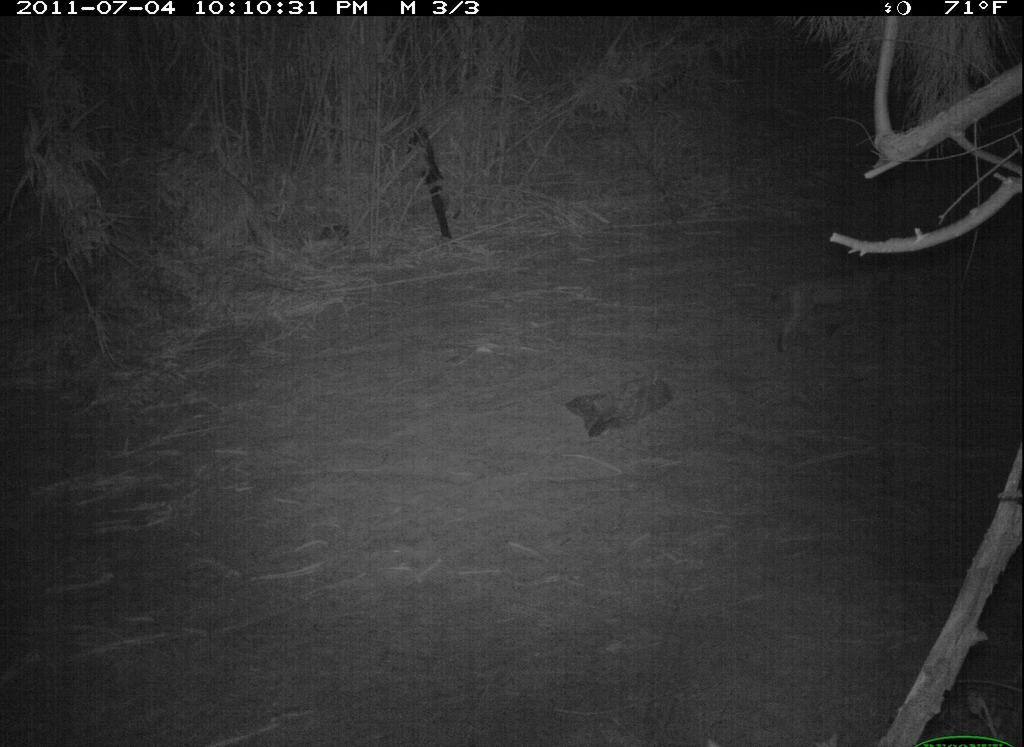bobcat: (754, 255, 923, 354)
